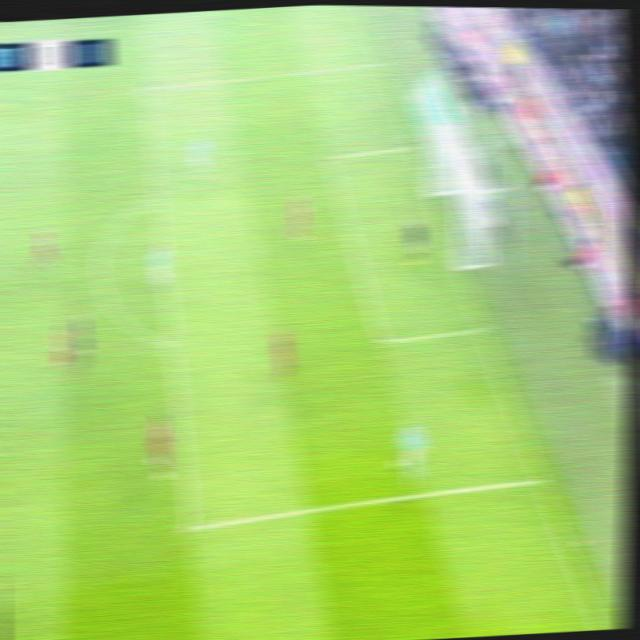bigarea_bottom_inner: (179, 516, 201, 535)
bigarea_bottom_outter: (529, 472, 548, 488)
bigarea_top_inner: (137, 79, 156, 98)
bigarea_top_outter: (371, 55, 387, 67)
bottom_arc_area_intersection: (162, 336, 181, 355)
smallarea_bottom_inner: (369, 328, 392, 351)
smallarea_bottom_outter: (468, 318, 490, 337)
smallarea_top_inner: (320, 148, 338, 164)
smallarea_top_outter: (399, 137, 421, 156)
top_arc_area_intersection: (145, 183, 167, 202)
